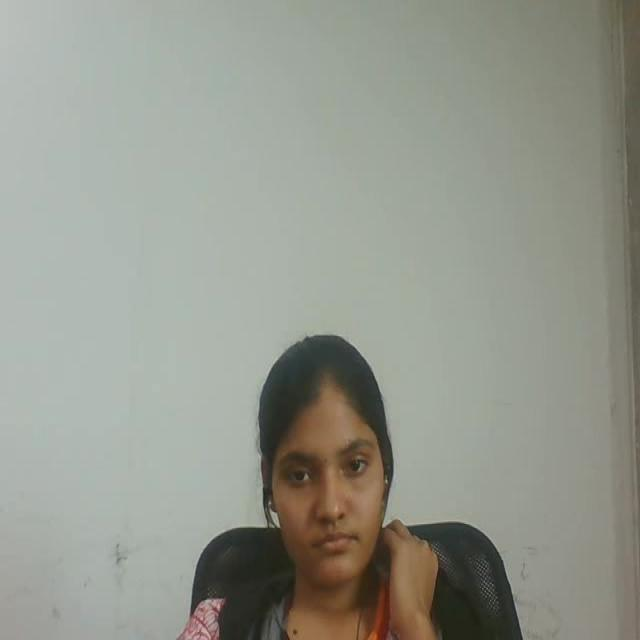Engaged: (229, 327, 420, 603)
